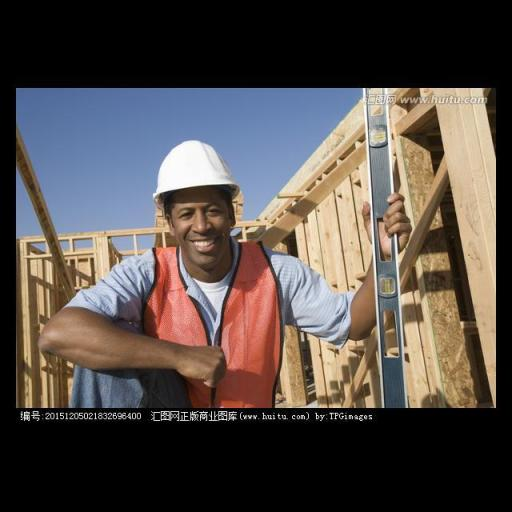Person: (59, 112, 407, 415)
helmet: (142, 138, 247, 198)
vest: (142, 233, 284, 410)
